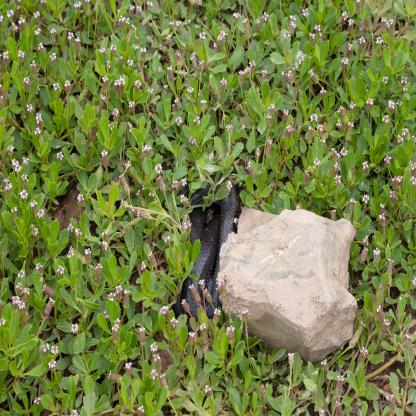Snake: (171, 168, 250, 330)
